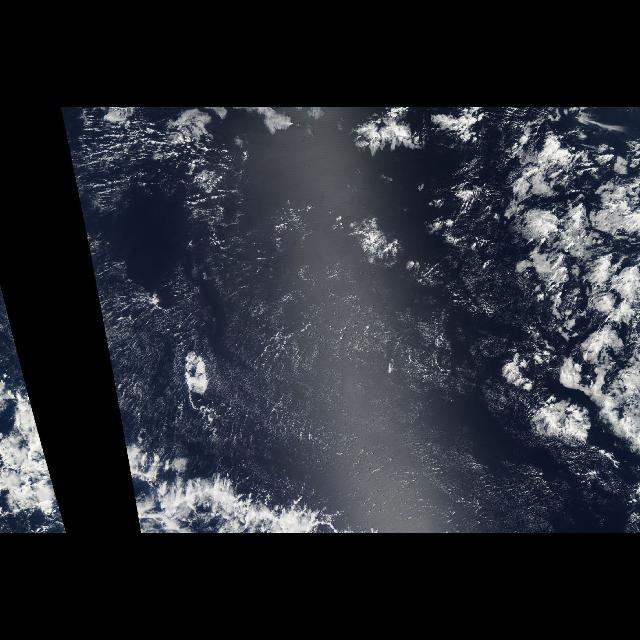Fish: (120, 422, 388, 532), (4, 422, 68, 532)
Flower: (510, 123, 640, 457)
Sugar: (85, 226, 561, 532)
